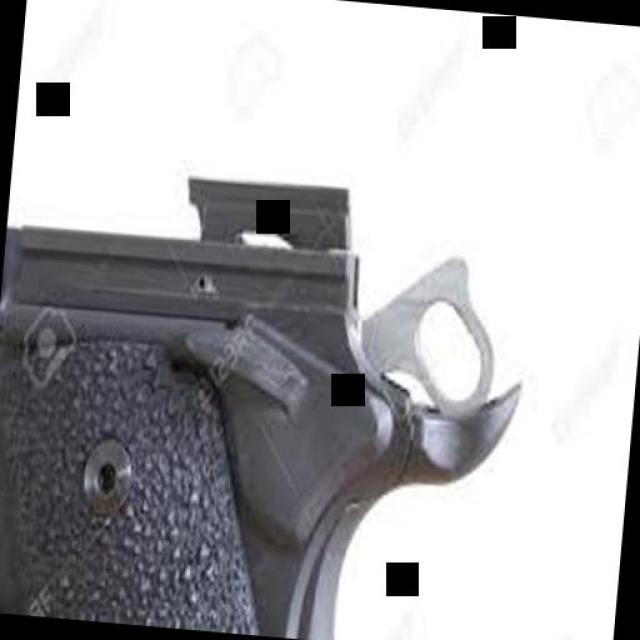gun: (0, 117, 551, 640)
